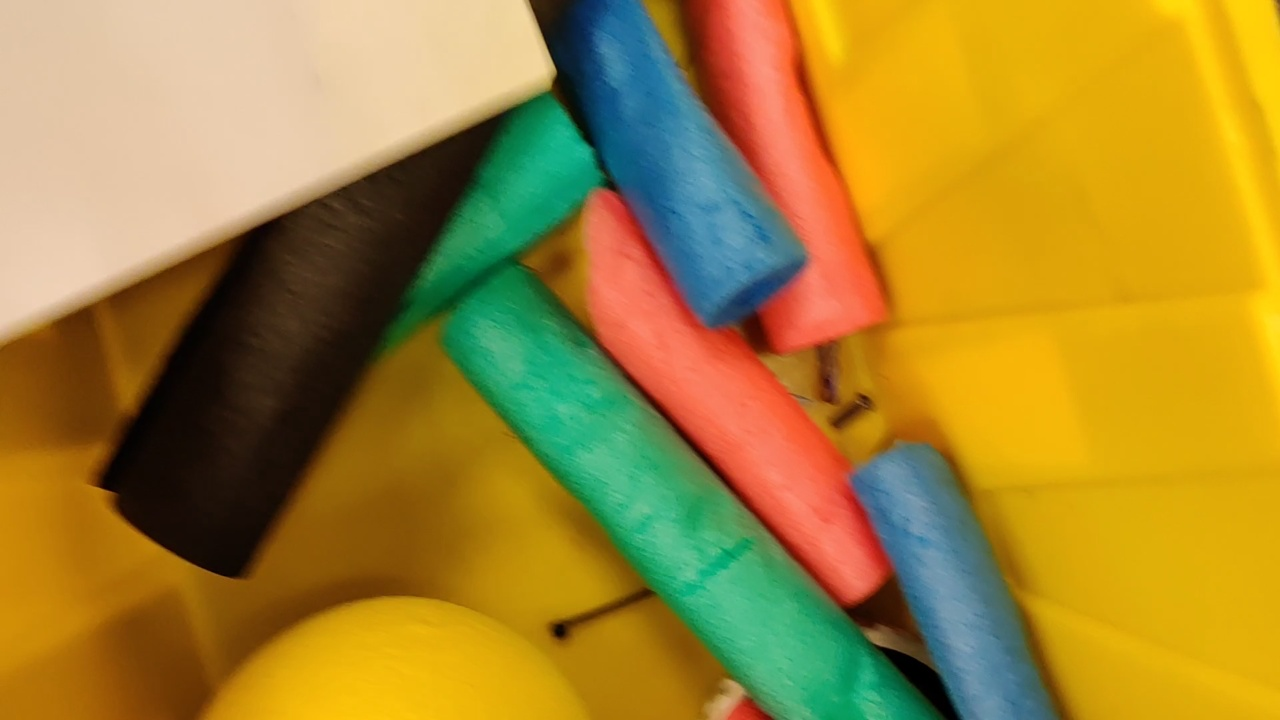Ball: (184, 594, 599, 720)
